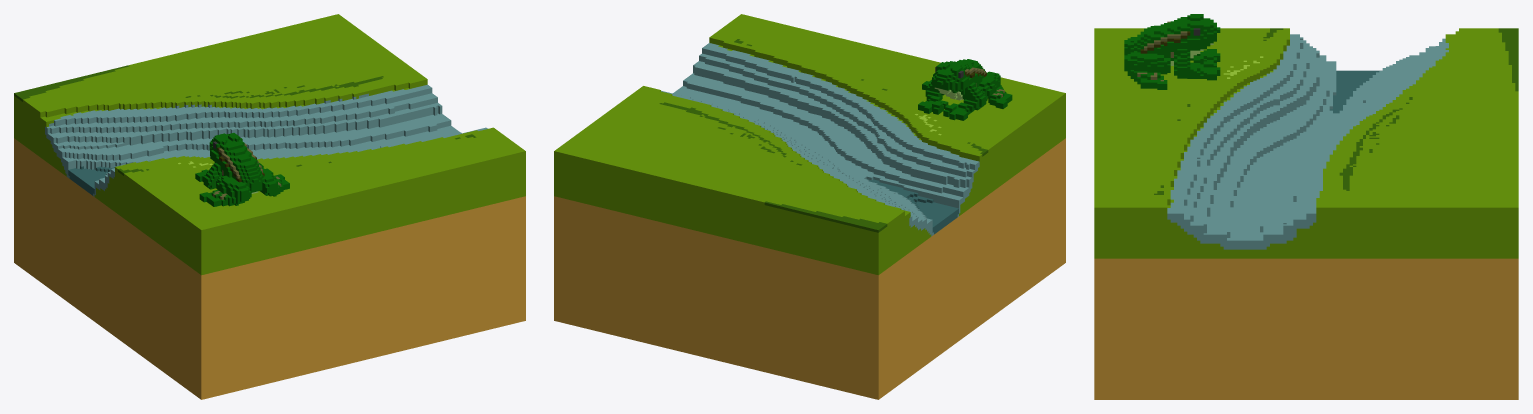
The picture shows the model from 3 angles, left to right: view 1: azimuth 30°, elevation 25°; view 2: azimuth 150°, elevation 25°; view 3: azimuth 270°, elevation 25°; orthographic projection. The views are drawn at different scales.
Parts seen in each view (by area): view 1: 3I; view 2: 3I; view 3: 3I.
Part boxes in pixels (bbox=[...]): 3I: bbox=[14, 14, 525, 399]; 3I: bbox=[554, 14, 1065, 399]; 3I: bbox=[1094, 14, 1518, 399].
Bounding box in the file's own units: 12.8 × 8 × 12.8.
1 material, 1 textured.
